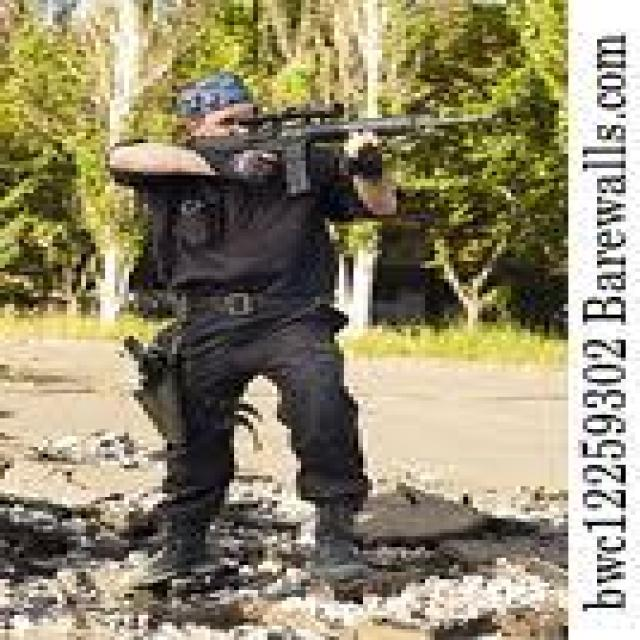soldier: (114, 74, 480, 601)
